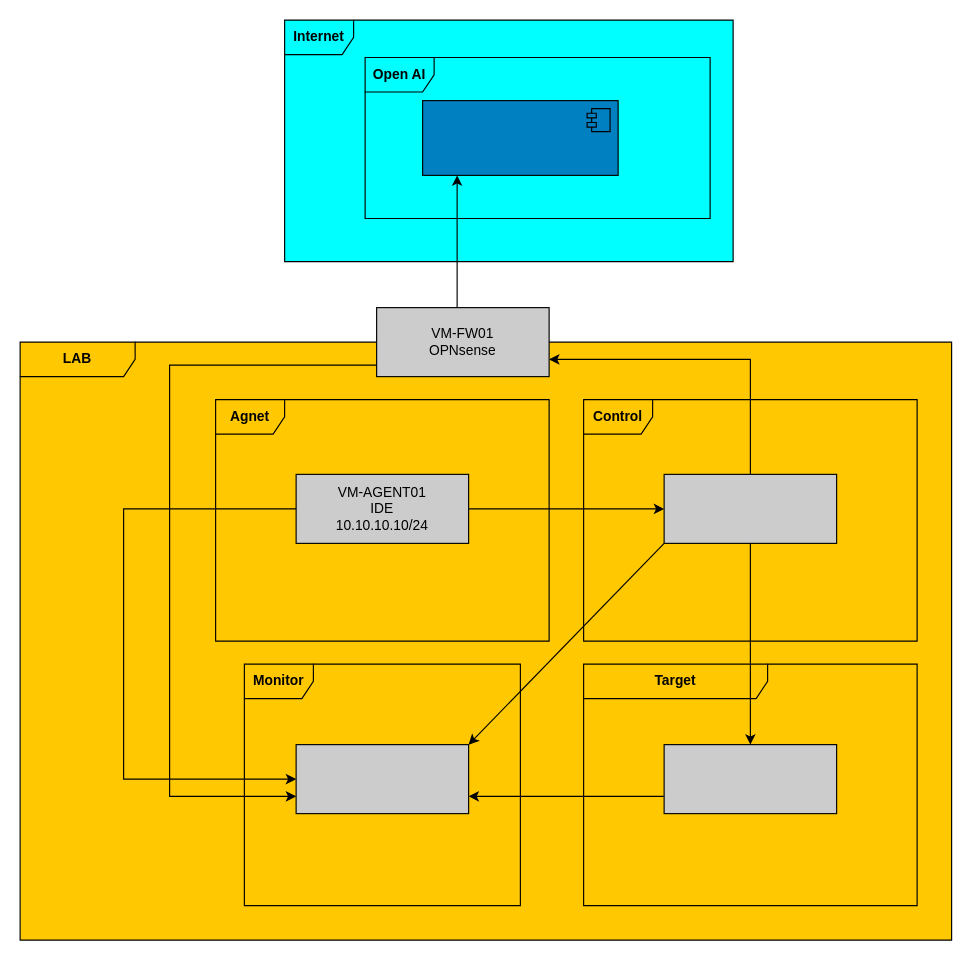
Some shapes in this 972 by 960 pixel diagram are drawn without their labels. The centre of each missing label's shape, as x and y in pixels:
"GPT -5.6 Model Chmurowy" goes at (519,137).
"VM-CONTROL01 LiteLLM Proxy 10.10.20.10/24" goes at (750,508).
"VM-MON01 Dashboard 10.10.40.10/24" goes at (382,778).
"VM-TARGET01 Test API 10.10.30.10/24" goes at (750,778).
